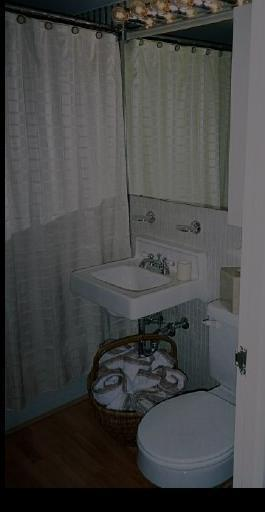Ducha: (7, 23, 138, 388)
Lavamanos: (79, 231, 214, 321)
Sanitario: (149, 295, 233, 486)
